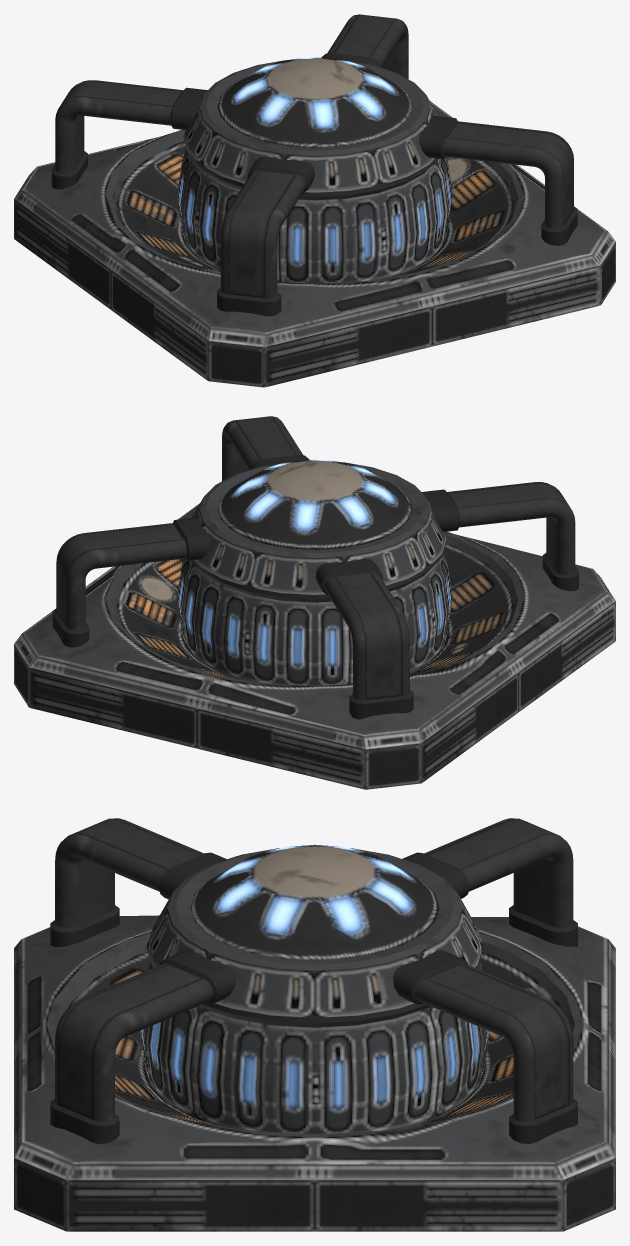
The model's file is Reactor.fbx.
3 renders of one model, top to bottom at view 1: azimuth 30°, elevation 25°; view 2: azimuth 150°, elevation 25°; view 3: azimuth 270°, elevation 25°, orthographic. The views are drawn at different scales.
Visible parts, largest first — view 1: Reactor; view 2: Reactor; view 3: Reactor.
Boxes of the visible parts, <box> form: Reactor: <box>14,14,615,387</box>; Reactor: <box>14,416,615,789</box>; Reactor: <box>14,818,615,1231</box>.
Bounding box in the file's own units: 389 × 174 × 389.
